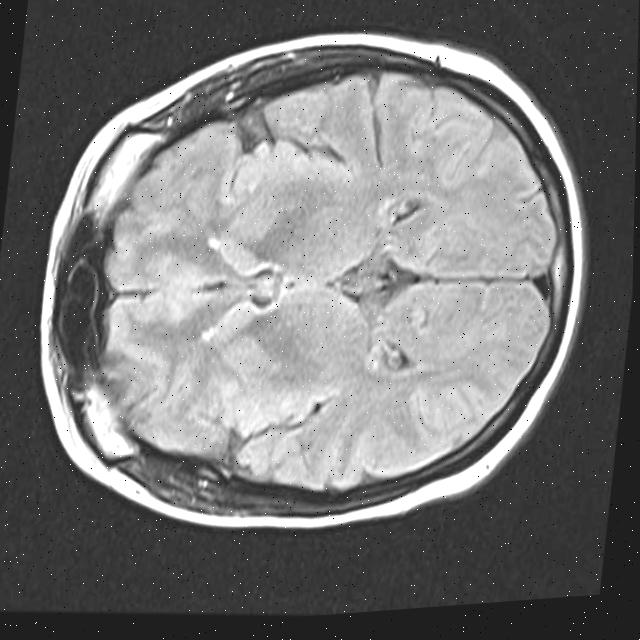NoTumor: (13, 0, 614, 576)
